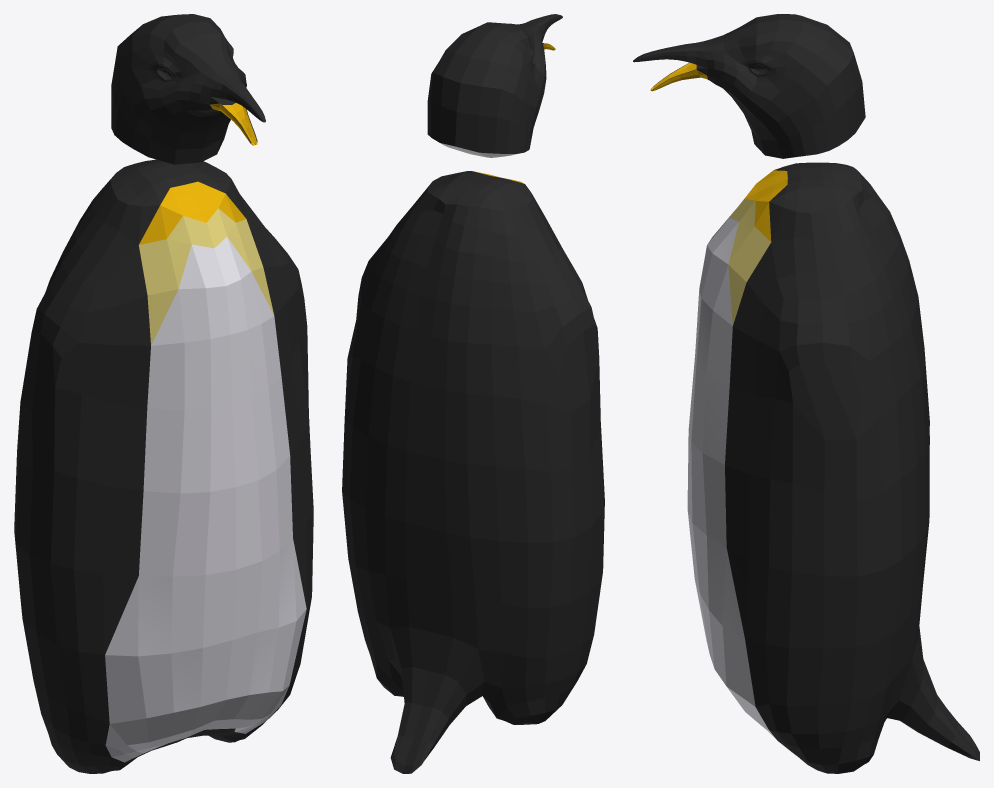
The model's file is penguin_2.fbx.
3 views of the same model, side by side, from view 1: azimuth 30°, elevation 25°; view 2: azimuth 150°, elevation 25°; view 3: azimuth 270°, elevation 25° (orthographic). The views are drawn at different scales.
Visible parts, largest first — view 1: Corps, Tete; view 2: Corps, Tete; view 3: Corps, Tete.
Boxes of the visible parts, x1=… form: Corps: x1=14, y1=159, x2=313, y2=773; Tete: x1=111, y1=14, x2=265, y2=164; Corps: x1=342, y1=171, x2=604, y2=773; Tete: x1=427, y1=14, x2=562, y2=157; Corps: x1=687, y1=162, x2=979, y2=773; Tete: x1=633, y1=14, x2=865, y2=158.
Size of the model in its own units: 23.62 by 64.61 by 27.48.
